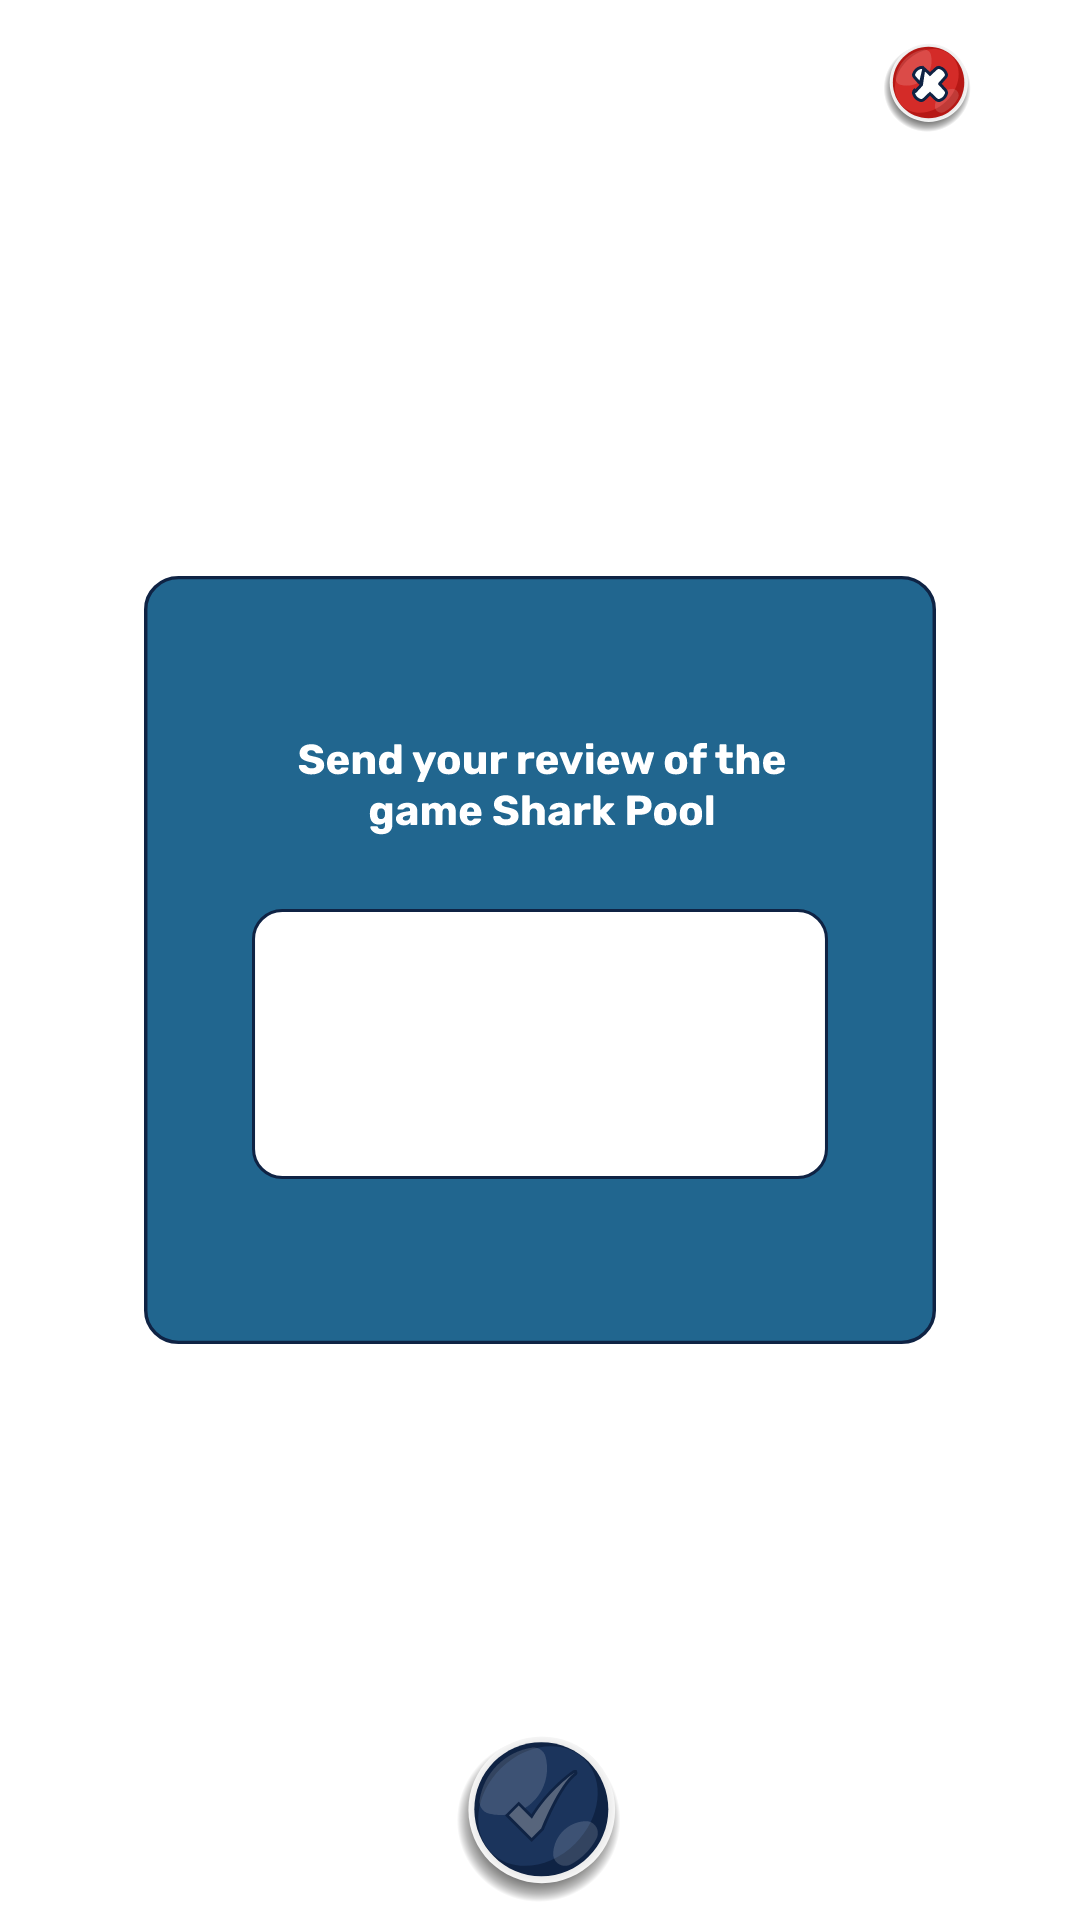

Screen size 1080*1920. Icon name, then its box in pixels as (x1, y1, x2, y2):
close: (885, 46, 969, 131)
send disable: (460, 1742, 618, 1899)
